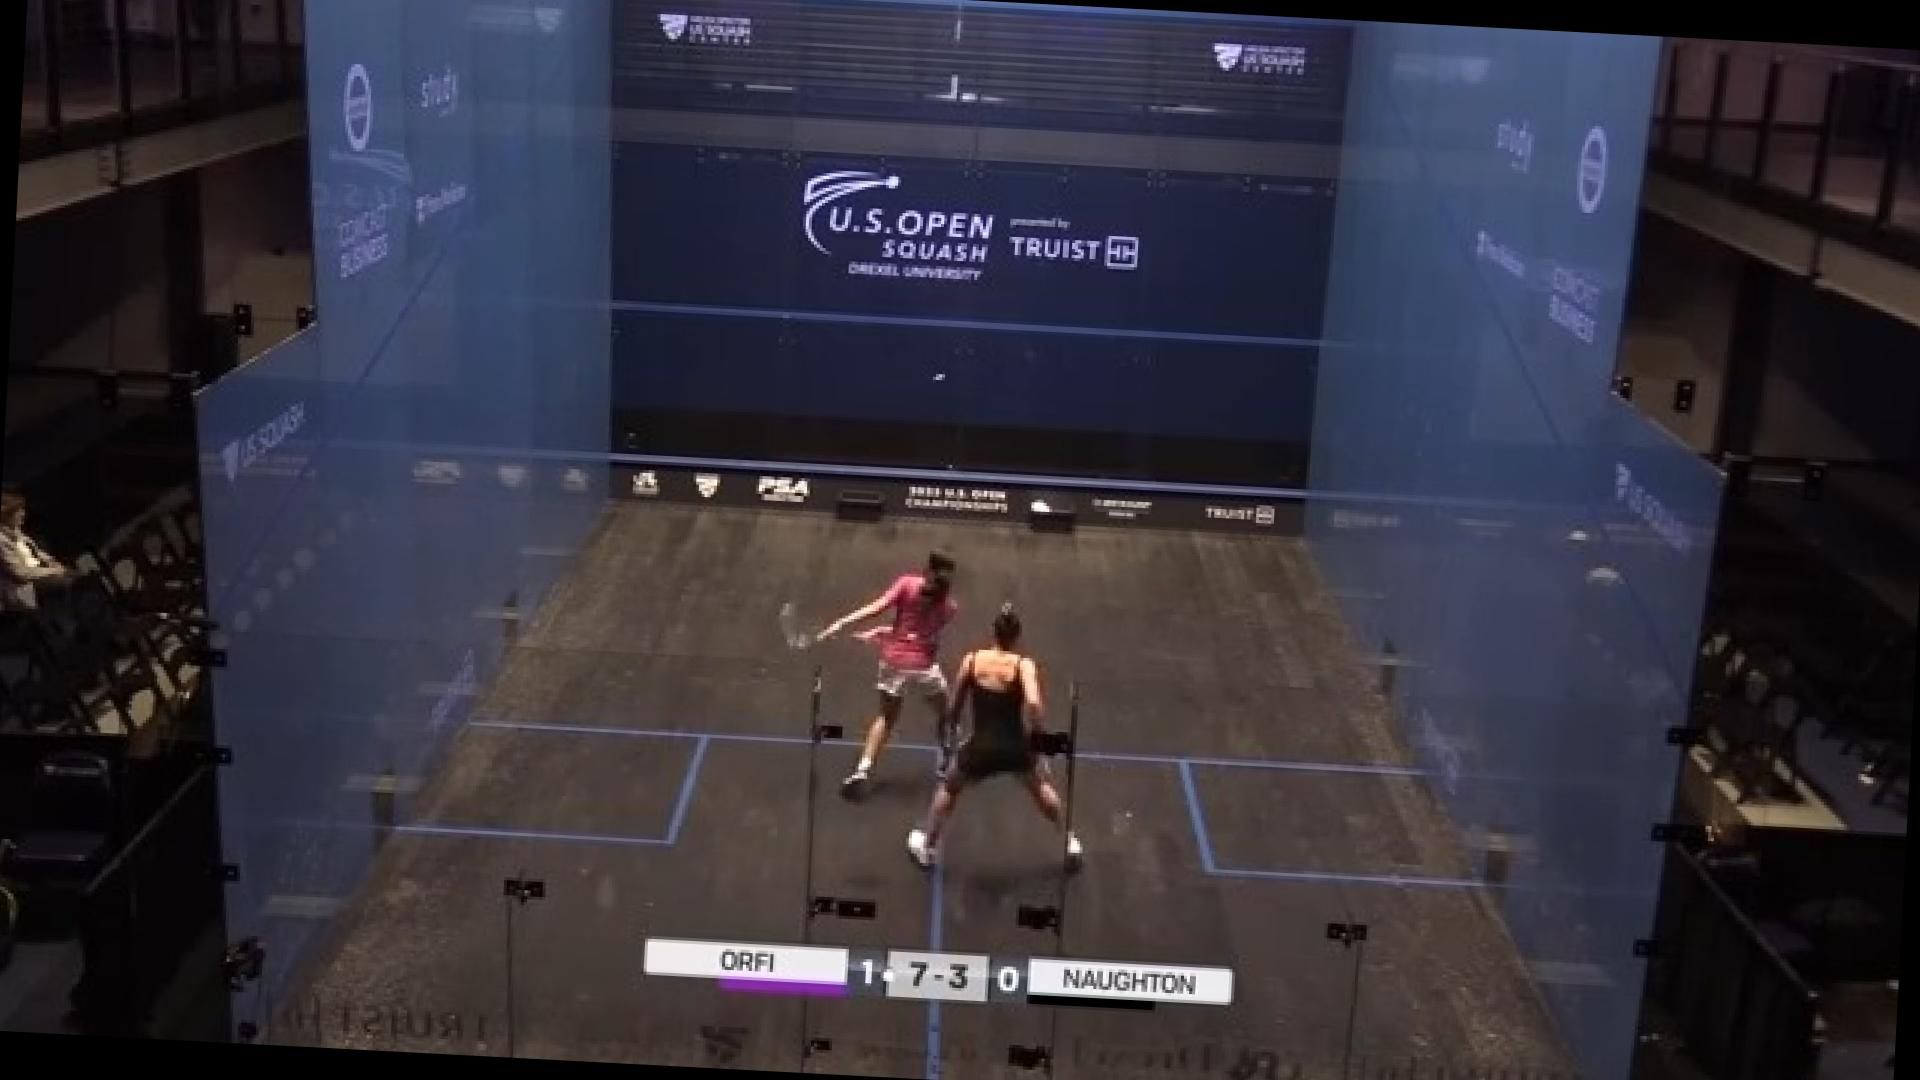Squash-Ball: (919, 363, 955, 397)
